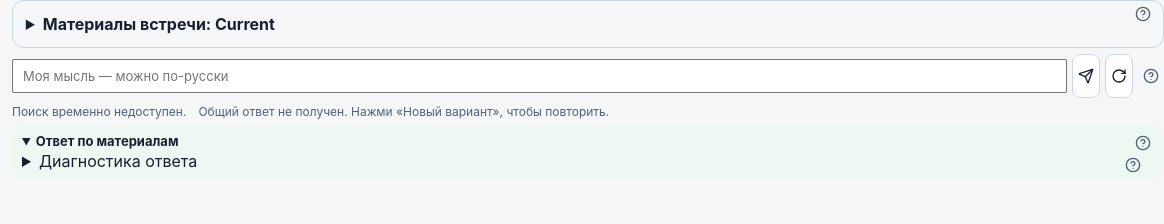
Test: manual meeting assistance › distinguishes a search failure from an unsupported answer
Expected: the heading "Ответ по материалам" is shown, [36,133,178,149]
Click the heading "Диагностика ответа" at (118, 161), box [39,151,197,171]
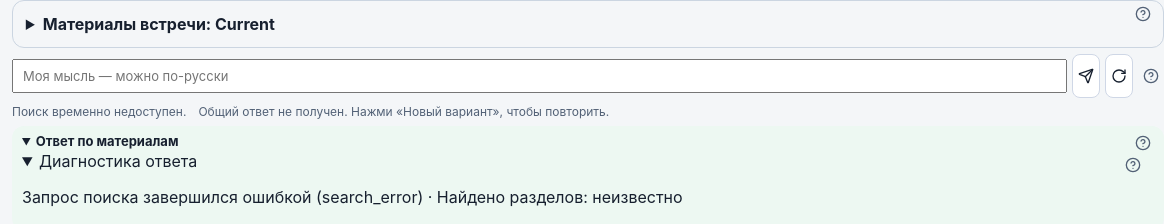
Expected: the text "search_error" shows "Найдено разделов: неизвестно", [22,187,683,207]
